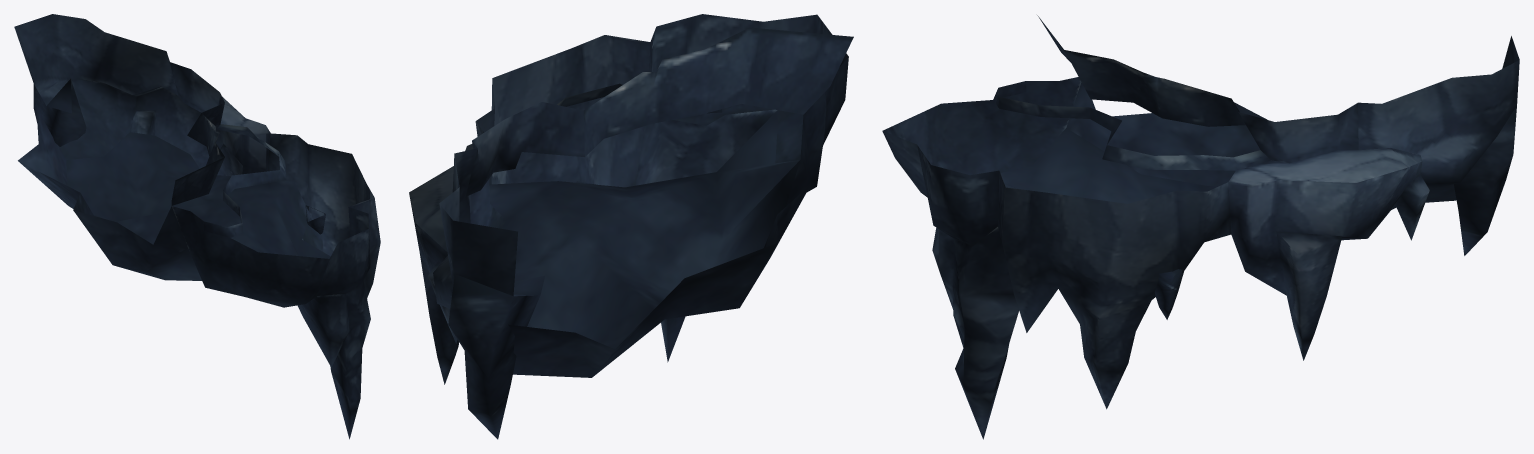
The model's file is Area_04_20.fbx.
The picture shows the model from 3 angles, left to right: view 1: azimuth 30°, elevation 25°; view 2: azimuth 150°, elevation 25°; view 3: azimuth 270°, elevation 25°; orthographic projection. The views are drawn at different scales.
Visible parts, largest first — view 1: Area_04_20; view 2: Area_04_20; view 3: Area_04_20.
Boxes of the visible parts, bbox=[...] form: Area_04_20: bbox=[14, 14, 380, 439]; Area_04_20: bbox=[409, 14, 853, 439]; Area_04_20: bbox=[882, 15, 1519, 439].
Bounding box in the file's own units: 2614 × 2932 × 5028.
